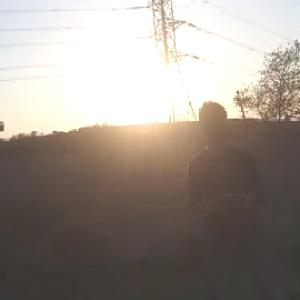follow: (184, 93, 269, 299)
